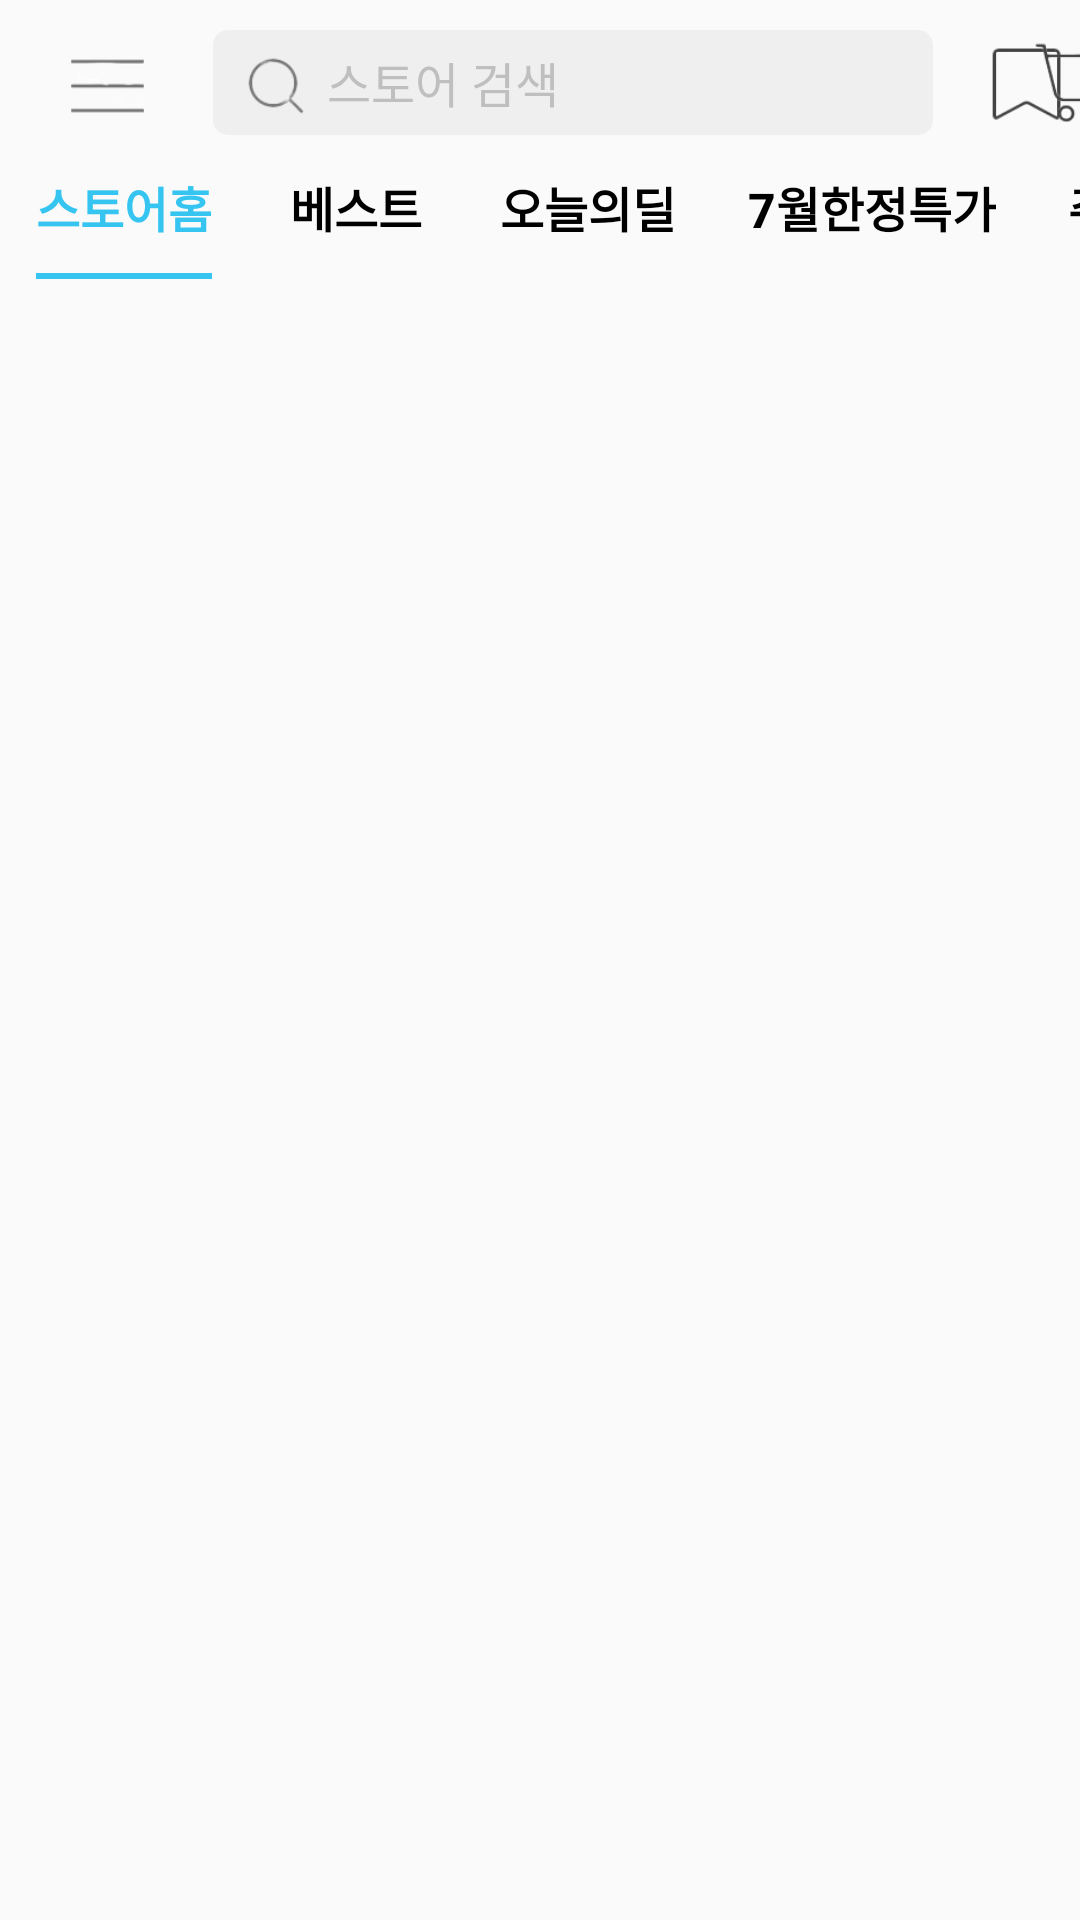

Icons on this 1080x1920 Android screen, each with its box as (x1, y1, x2, y2):
search home: (248, 58, 303, 113)
store home list: (71, 59, 144, 113)
